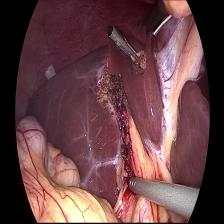Grasper: (108, 26, 146, 74)
Irrigator: (127, 172, 147, 200)
Specimen Bag: (42, 61, 58, 82)
